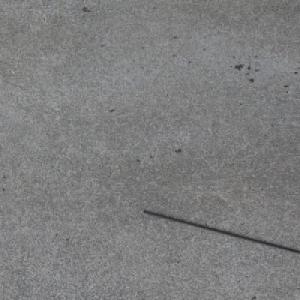LuggagePart: (141, 209, 300, 254)
